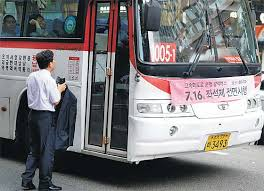out: (71, 2, 260, 166)
